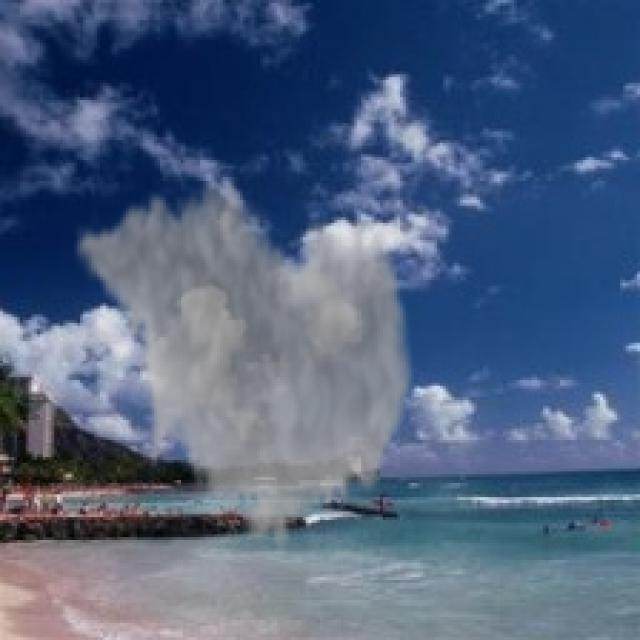Smoke: (72, 165, 417, 558)
